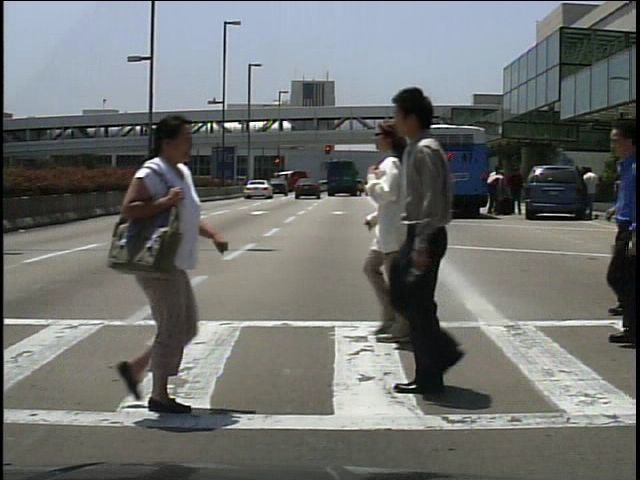person: (360, 85, 491, 397), (95, 119, 231, 418), (341, 117, 461, 358), (485, 162, 503, 214), (508, 166, 526, 216), (585, 168, 602, 218)
